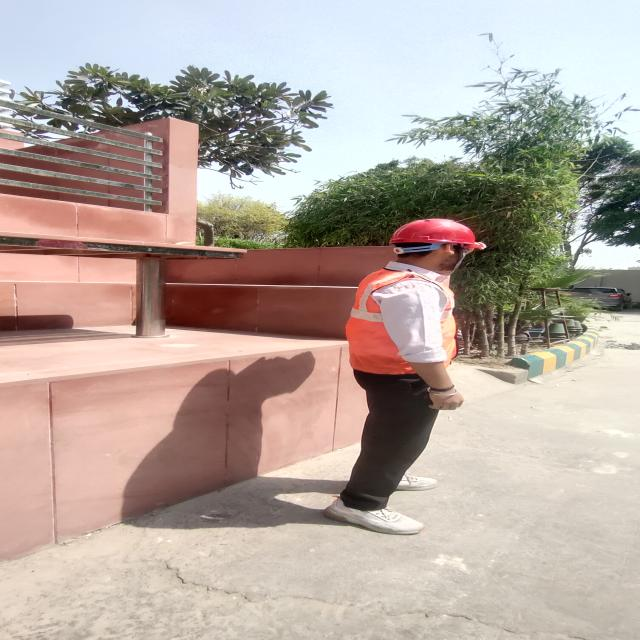safe: (344, 218, 484, 534)
